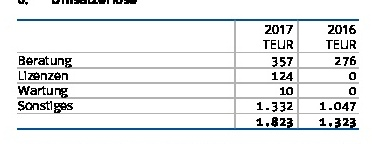table: (0, 0, 373, 144)
